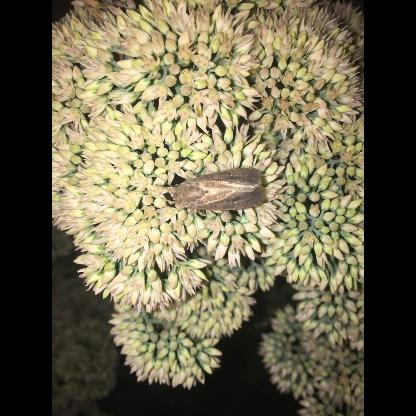Fall Armyworm Moth: (127, 165, 267, 213)
